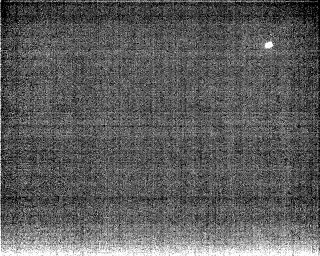AIRPLANE: (263, 39, 275, 51)
